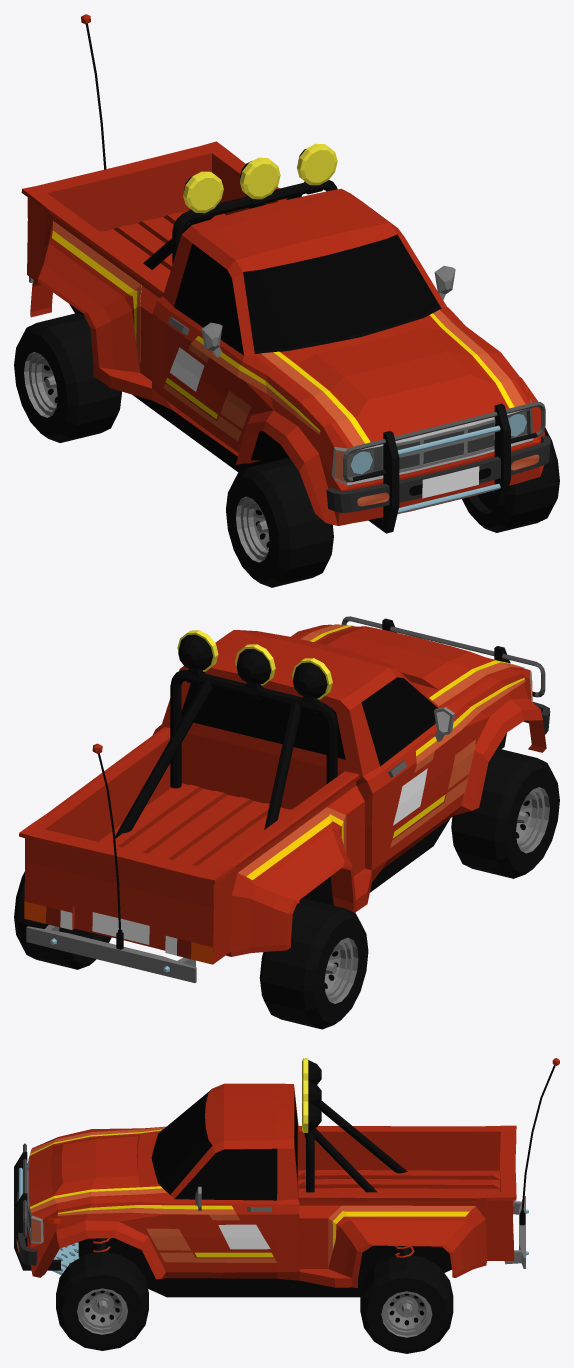
Rendered from toyoyo-highlight.glb.
3 views of the same model, one above another, from view 1: azimuth 30°, elevation 25°; view 2: azimuth 150°, elevation 25°; view 3: azimuth 270°, elevation 25° (orthographic). The views are drawn at different scales.
Visible parts, largest first — view 1: body, glass, wheel_fr_stock, wheel_rr_stock, wheel_fl_stock, plate_front, lights; view 2: body, wheel_rr_stock, wheel_fr_stock, glass, wheel_rl_stock, plate_rear, lights; view 3: body, wheel_rl_stock, wheel_fl_stock, glass.
Boxes of the visible parts, x1=… form: body: x1=21, y1=14, x2=550, y2=533; glass: x1=174, y1=234, x2=439, y2=352; wheel_fr_stock: x1=226, y1=457, x2=333, y2=587; wheel_rr_stock: x1=14, y1=313, x2=121, y2=442; wheel_fl_stock: x1=462, y1=427, x2=559, y2=532; plate_front: x1=422, y1=466, x2=479, y2=498; lights: x1=350, y1=414, x2=526, y2=474; body: x1=19, y1=616, x2=550, y2=982; wheel_rr_stock: x1=259, y1=898, x2=368, y2=1029; wheel_fr_stock: x1=451, y1=748, x2=559, y2=878; glass: x1=181, y1=677, x2=437, y2=763; wheel_rl_stock: x1=14, y1=871, x2=111, y2=969; plate_rear: x1=92, y1=912, x2=149, y2=944; lights: x1=46, y1=907, x2=191, y2=959; body: x1=14, y1=1058, x2=559, y2=1297; wheel_rl_stock: x1=360, y1=1254, x2=453, y2=1353; wheel_fl_stock: x1=56, y1=1251, x2=148, y2=1350; glass: x1=153, y1=1089, x2=297, y2=1198.
Bounding box in the file's own units: 2.2 × 2.24 × 4.59.
